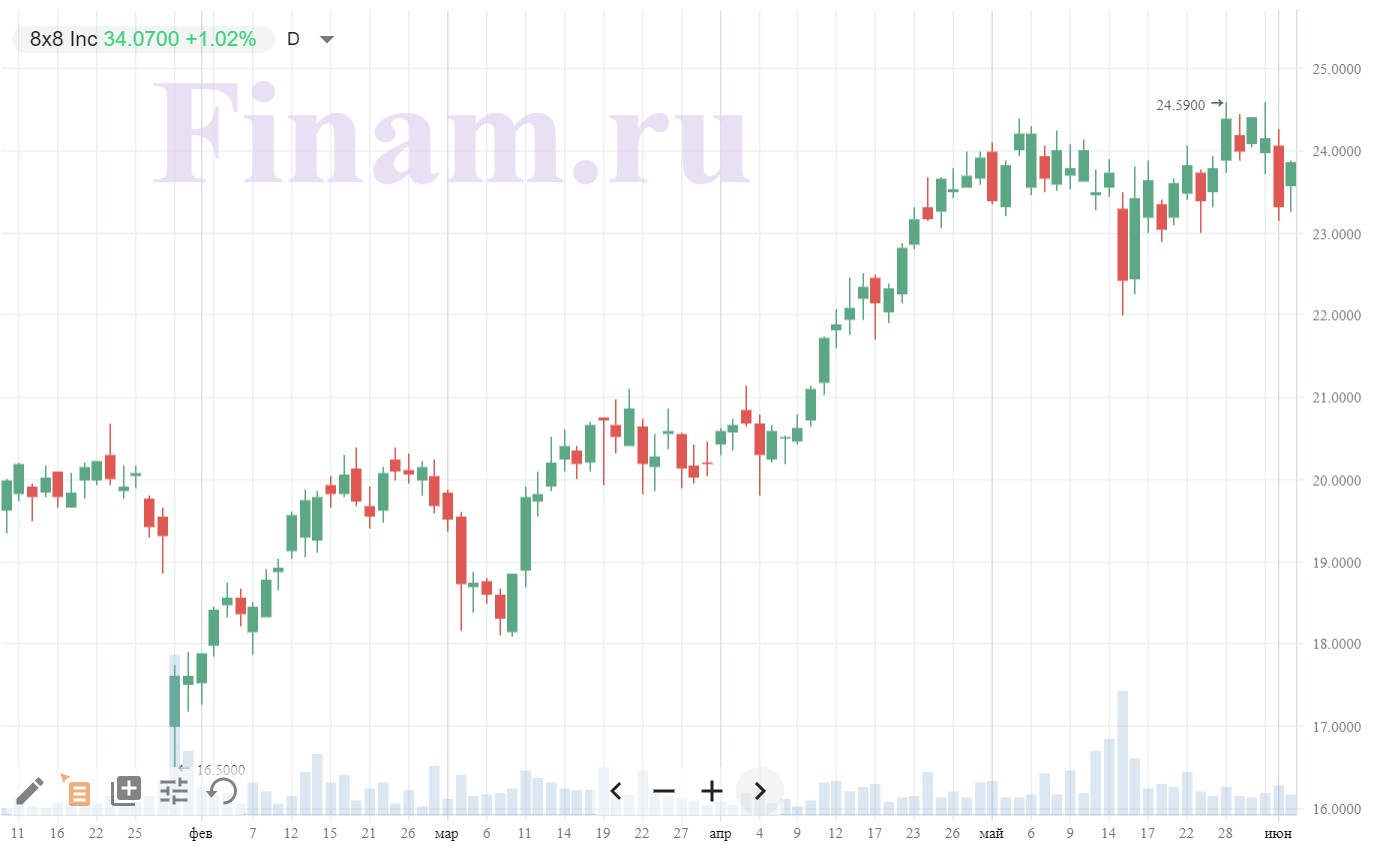bearishEngulfing: (857, 271, 882, 343), (337, 452, 363, 512)
bullishEngulfing: (493, 570, 520, 639), (609, 392, 637, 455), (1039, 135, 1064, 198)
